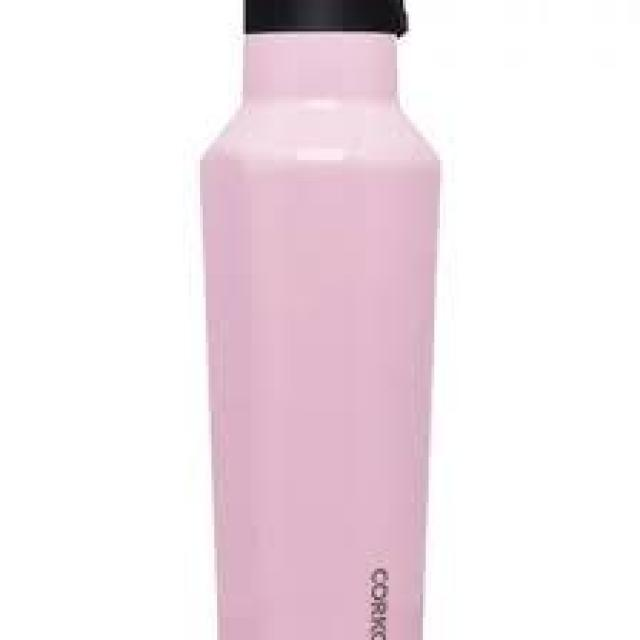bottle: (197, 0, 440, 640)
